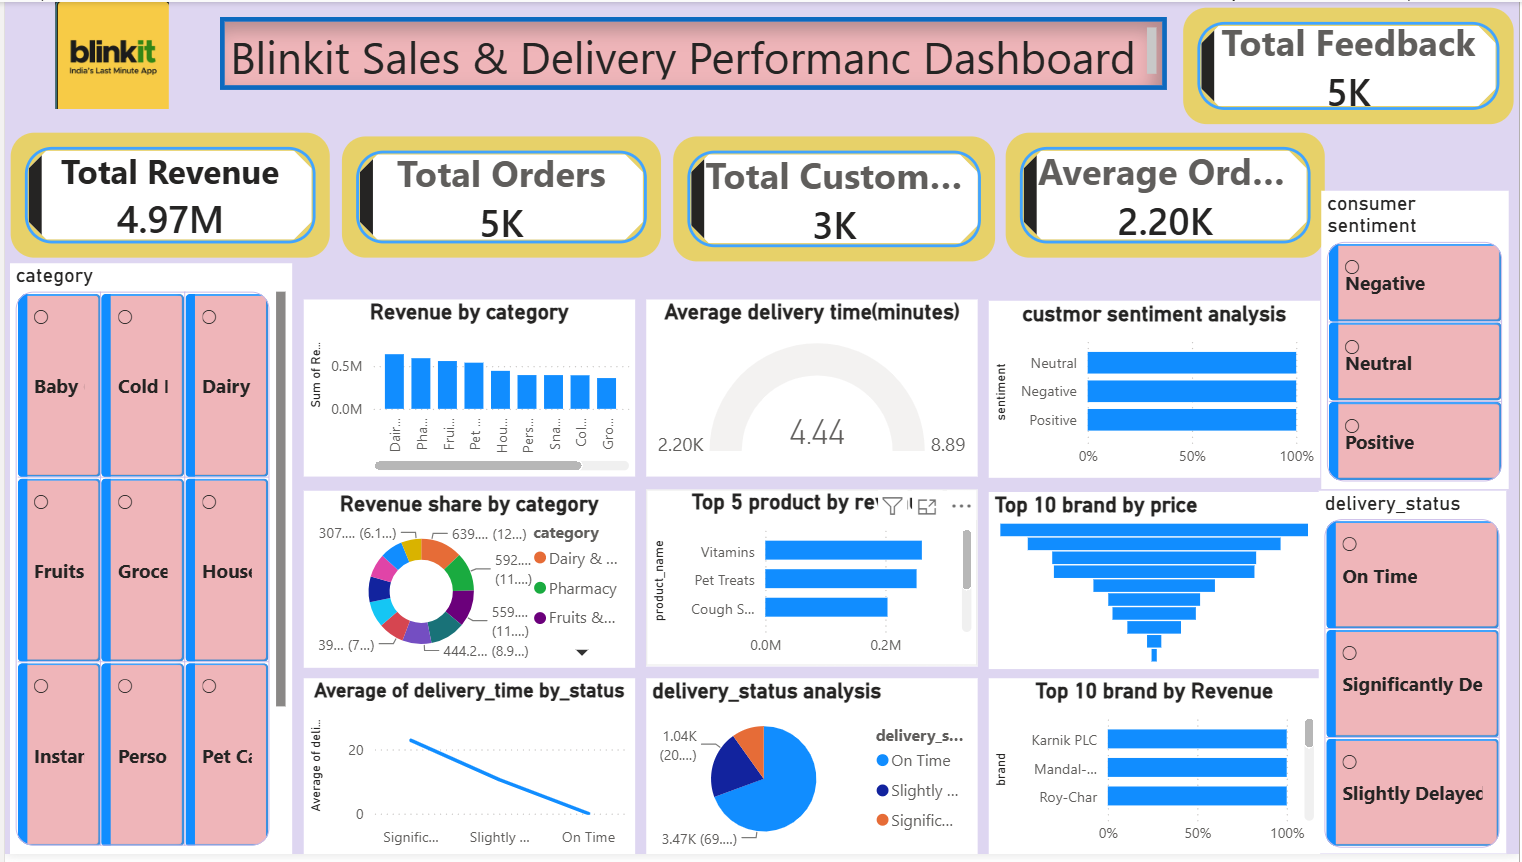

What the dashboard file says about the page in this screenshot:
{"tool":"powerbi","page":{"name":"Page 1","canvas":[1280,720],"ordinal":0},"visuals":[{"type":"cardVisual","fields":{"Data":["blinkit_order_items.Total Revenue"]},"box":[0,105.7,279.9,115.3],"z":0},{"type":"cardVisual","fields":{"Data":["blinkit_customer_feedback.Total Orders"]},"box":[279.9,108.4,279.9,112.5],"z":1000},{"type":"cardVisual","fields":{"Data":["blinkit_customer_feedback.Total Customers"]},"box":[559.9,108.4,282.7,115.3],"z":2000},{"type":"cardVisual","fields":{"Data":["blinkit_customer_feedback.Average Order Value"]},"box":[841.2,105.7,279.9,115.3],"z":3000},{"type":"clusteredColumnChart","title":" Revenue by category","fields":{"Category":["blinkit_products.category"],"Y":["Sum(blinkit_order_items.Revenue)"]},"box":[252.5,251.1,279.9,149.6],"z":4000},{"type":"clusteredBarChart","title":"Top 5 product by revenue","fields":{"Category":["blinkit_products.product_name"],"Y":["Sum(blinkit_order_items.Revenue)"]},"box":[542,411.7,279.9,149.6],"z":5000},{"type":"hundredPercentStackedBarChart","title":"Top 10 brand by Revenue ","fields":{"Category":["blinkit_products.brand"],"Y":["Sum(blinkit_order_items.Revenue)"]},"box":[831.6,570.8,279.9,149.6],"z":6000},{"type":"donutChart","title":"Revenue share by category","fields":{"Category":["blinkit_products.category"],"Y":["Sum(blinkit_order_items.Revenue)"]},"box":[252.5,413,279.9,149.6],"z":7000},{"type":"pieChart","title":" delivery_status analysis","fields":{"Y":["CountNonNull(blinkit_order_items.order_id)"],"Category":["blinkit_delivery_performance.delivery_status"]},"box":[542,570.8,279.9,149.6],"z":8000},{"type":"gauge","title":"  Average delivery time(minutes)","fields":{"Y":["Avg(blinkit_delivery_performance.delivery_time_minutes)"],"MinValue":["blinkit_customer_feedback.Average Order Value"]},"box":[542,251.1,279.9,149.6],"z":9000},{"type":"lineChart","title":"Average of delivery_time by_status","fields":{"Category":["blinkit_delivery_performance.delivery_status"],"Y":["Avg(blinkit_delivery_performance.delivery_time_minutes)"]},"box":[252.5,570.8,279.9,149.6],"z":10000},{"type":"advancedSlicerVisual","fields":{"Values":["blinkit_products.category"]},"box":[4.1,220.9,238.8,499.5],"z":11000},{"type":"textbox","box":[181.1,12.3,800,61.7],"z":12000},{"type":"image","box":[0,0,181.1,90.6],"z":13000},{"type":"funnel","title":"Top 10  brand by price","fields":{"Category":["blinkit_products.brand"],"Y":["Sum(blinkit_products.price)"]},"box":[831.6,414.4,279.9,149.6],"z":14000},{"type":"advancedSlicerVisual","fields":{"Values":["blinkit_delivery_performance.delivery_status"]},"box":[1110.4,413.4,158.2,306.5],"z":16000},{"type":"advancedSlicerVisual","title":" consumer sentiment","fields":{"Values":["blinkit_customer_feedback.sentiment"]},"box":[1111.8,159.6,158.2,252.3],"z":17000},{"type":"hundredPercentStackedBarChart","title":"custmor  sentiment analysis","fields":{"Category":["blinkit_customer_feedback.sentiment"],"Y":["Sum(blinkit_customer_feedback.feedback_id)"]},"box":[831.6,252.5,279.9,149.6],"z":18000},{"type":"cardVisual","fields":{"Data":["blinkit_customer_feedback.Total Feedback"]},"box":[990.6,0,289.4,108.3],"z":18001}]}

Visuals, with their boxes in screenshot pixels (x1, y1, x2, y2), scaled from the page's 1280x720 canvas onto the 1522x862 screenshot:
cardVisual - blinkit_order_items.Total Revenue: x1=0, y1=127, x2=333, y2=265
cardVisual - blinkit_customer_feedback.Total Orders: x1=333, y1=130, x2=666, y2=264
cardVisual - blinkit_customer_feedback.Total Customers: x1=666, y1=130, x2=1002, y2=268
cardVisual - blinkit_customer_feedback.Average Order Value: x1=1000, y1=127, x2=1333, y2=265
" Revenue by category" clusteredColumnChart: x1=300, y1=301, x2=633, y2=480
"Top 5 product by revenue" clusteredBarChart: x1=644, y1=493, x2=977, y2=672
"Top 10 brand by Revenue " hundredPercentStackedBarChart: x1=989, y1=683, x2=1322, y2=861
"Revenue share by category" donutChart: x1=300, y1=494, x2=633, y2=674
" delivery_status analysis" pieChart: x1=644, y1=683, x2=977, y2=861
"  Average delivery time(minutes)" gauge: x1=644, y1=301, x2=977, y2=480
"Average of delivery_time by_status" lineChart: x1=300, y1=683, x2=633, y2=861
advancedSlicerVisual - blinkit_products.category: x1=5, y1=264, x2=289, y2=861
textbox: x1=215, y1=15, x2=1167, y2=89
image: x1=0, y1=0, x2=215, y2=108
"Top 10  brand by price" funnel: x1=989, y1=496, x2=1322, y2=675
advancedSlicerVisual - blinkit_delivery_performance.delivery_status: x1=1320, y1=495, x2=1508, y2=861
" consumer sentiment" advancedSlicerVisual: x1=1322, y1=191, x2=1510, y2=493
"custmor  sentiment analysis" hundredPercentStackedBarChart: x1=989, y1=302, x2=1322, y2=481
cardVisual - blinkit_customer_feedback.Total Feedback: x1=1178, y1=0, x2=1521, y2=130
